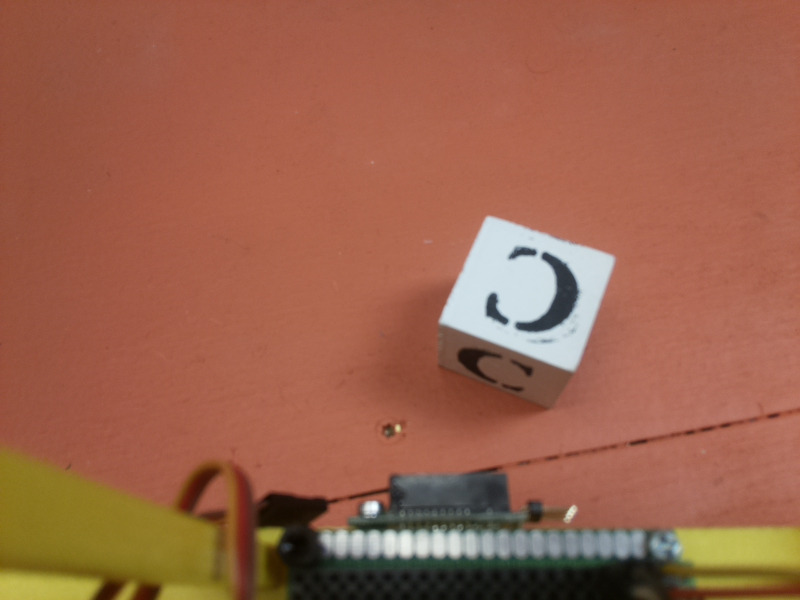blockC: (439, 212, 616, 424)
